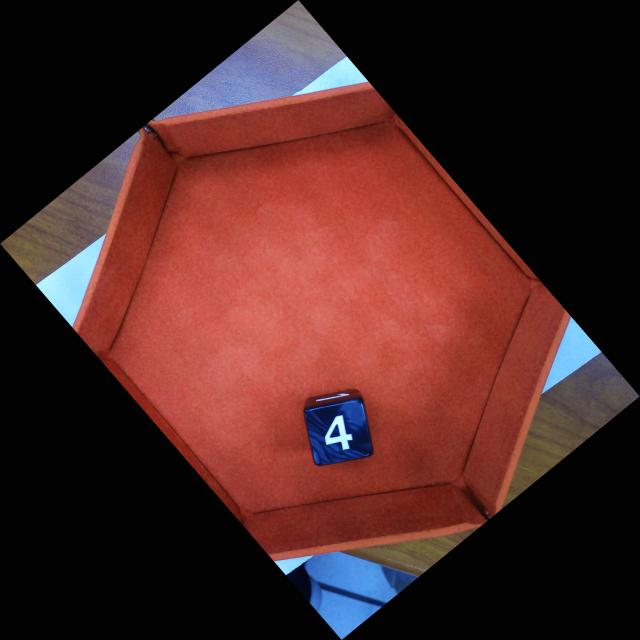dice: (302, 396, 376, 468)
